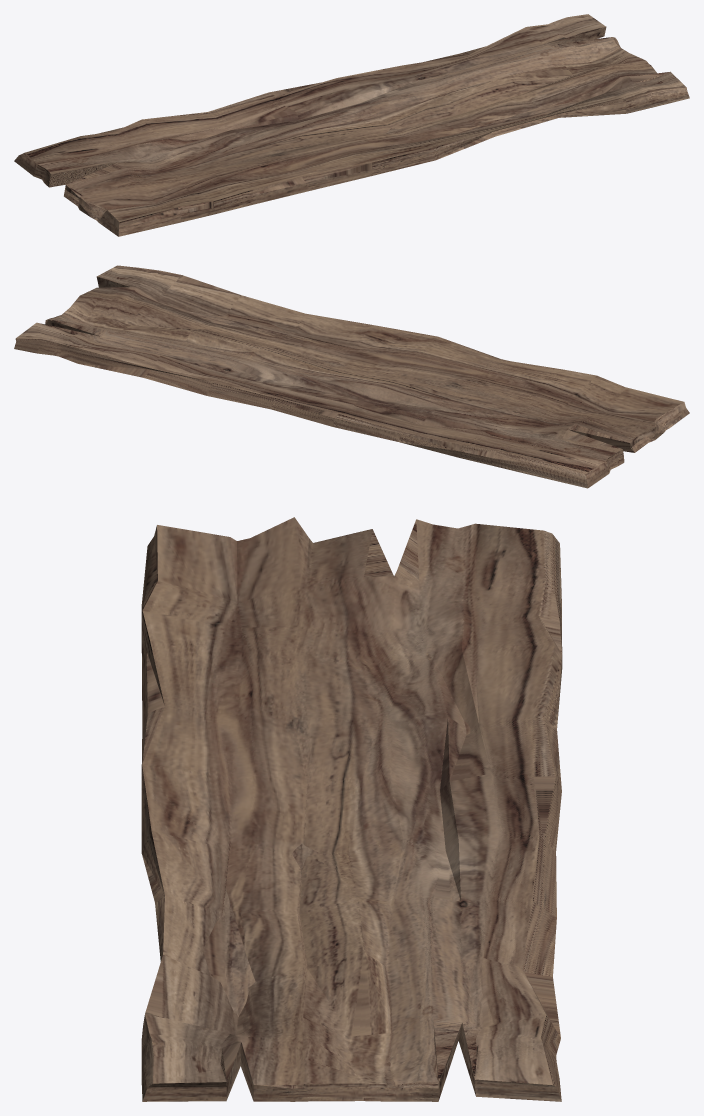
The model's file is Holz.fbx.
3 views of the same model, one above another, from view 1: azimuth 30°, elevation 25°; view 2: azimuth 150°, elevation 25°; view 3: azimuth 270°, elevation 25° (orthographic). The views are drawn at different scales.
Parts seen in each view (by area): view 1: Würfel; view 2: Würfel; view 3: Würfel.
Part boxes in pixels (x1=…): Würfel: x1=14, y1=14, x2=689, y2=236; Würfel: x1=14, y1=265, x2=689, y2=488; Würfel: x1=141, y1=517, x2=562, y2=1101.
Size of the model in its own units: 345 by 10.28 by 109.
1 material, 1 textured.
